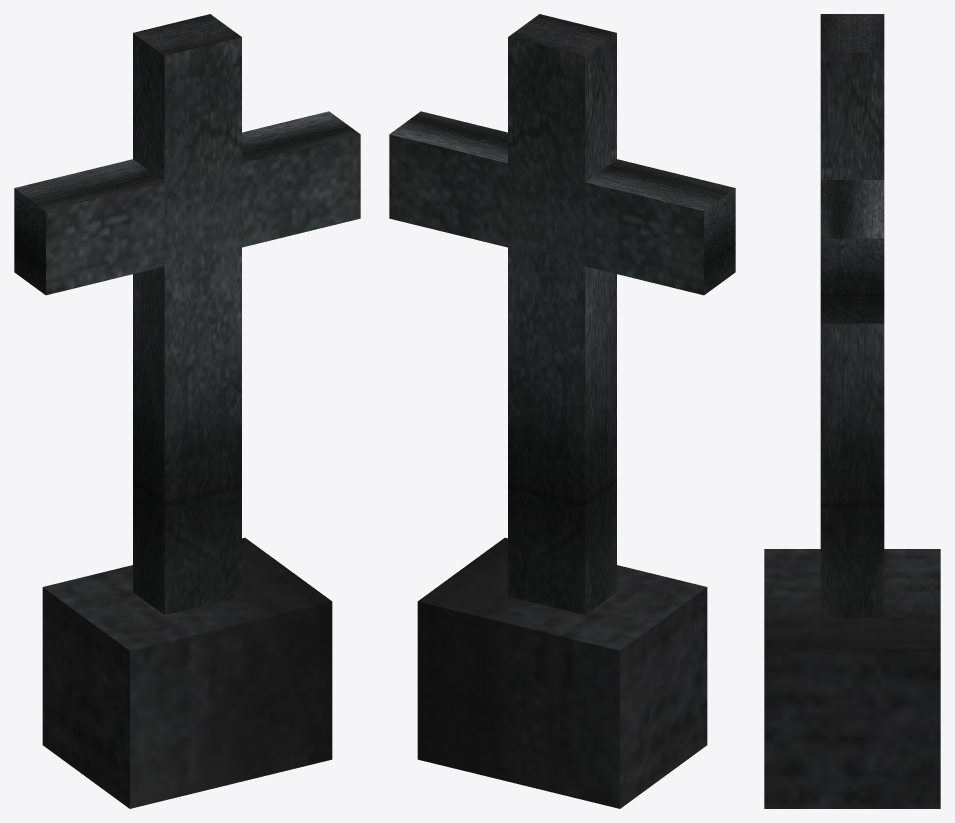
The model's file is graveE.fbx.
The picture shows the model from 3 angles, left to right: view 1: azimuth 30°, elevation 25°; view 2: azimuth 150°, elevation 25°; view 3: azimuth 270°, elevation 25°; orthographic projection.
Visible parts, largest first — view 1: polySurface2266; view 2: polySurface2266; view 3: polySurface2266.
Part boxes in pixels (left/top/right/bottom): polySurface2266: left=14, top=14, right=360, bottom=808; polySurface2266: left=389, top=14, right=735, bottom=808; polySurface2266: left=764, top=14, right=940, bottom=808.
Size of the model in its own units: 8.37 by 18.23 by 4.02.
